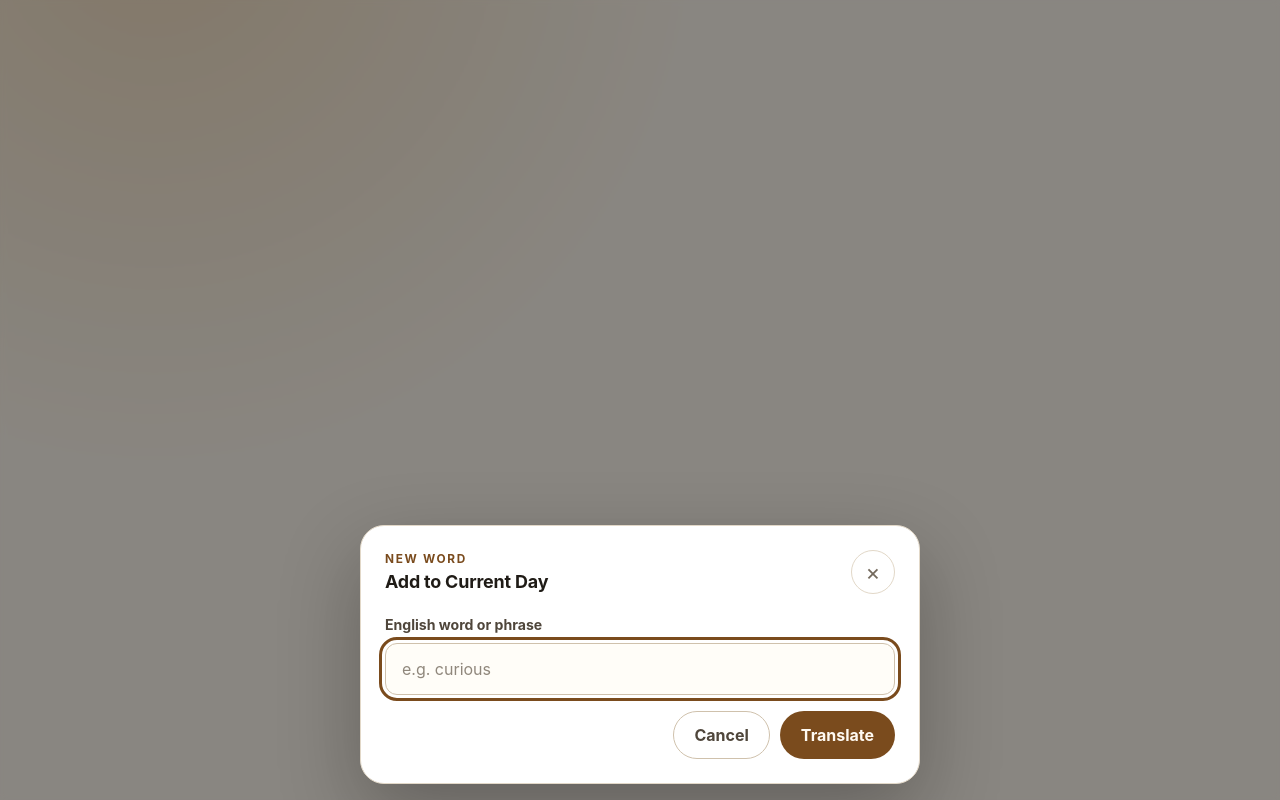
AddCardDialog › shows one shared status bar with the percentage above the bar
This screenshot has width=1280, height=800.
Type "curious" into the field labelled "English word or phrase". click: point(640, 669)
box: [385,643,895,695]
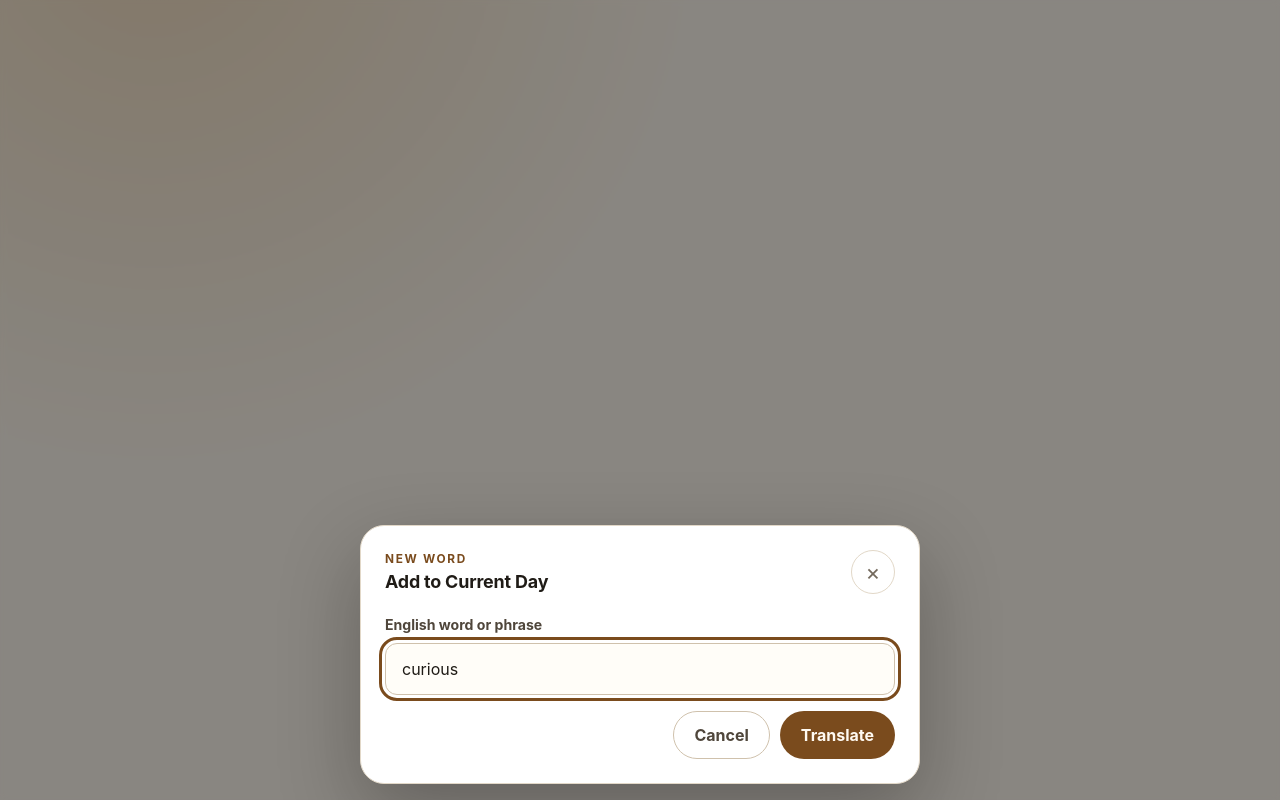
Click the button "Translate". click: point(837, 735)
box: [780,711,895,759]
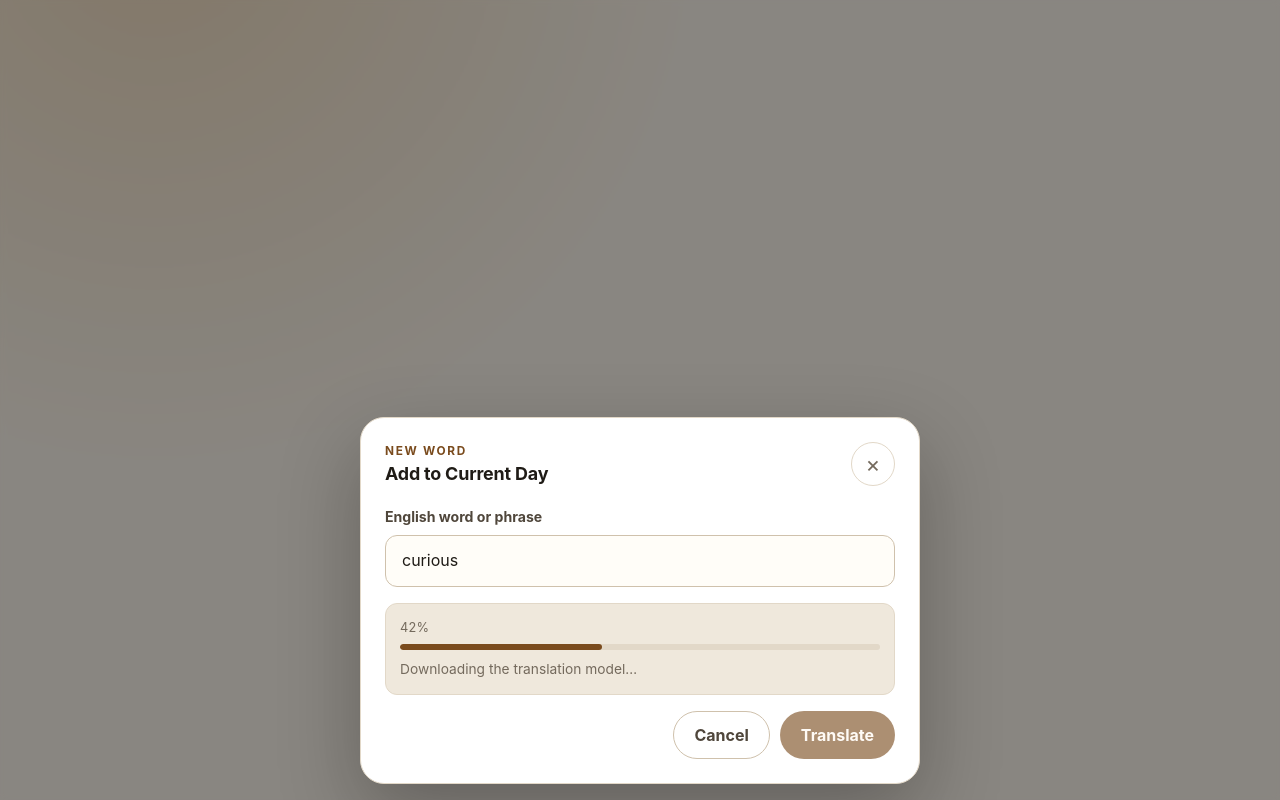
Now the message shows "Downloading the translation model", box [400,661,637,677]
Now the number of messages is 1, box [385,603,895,695]
